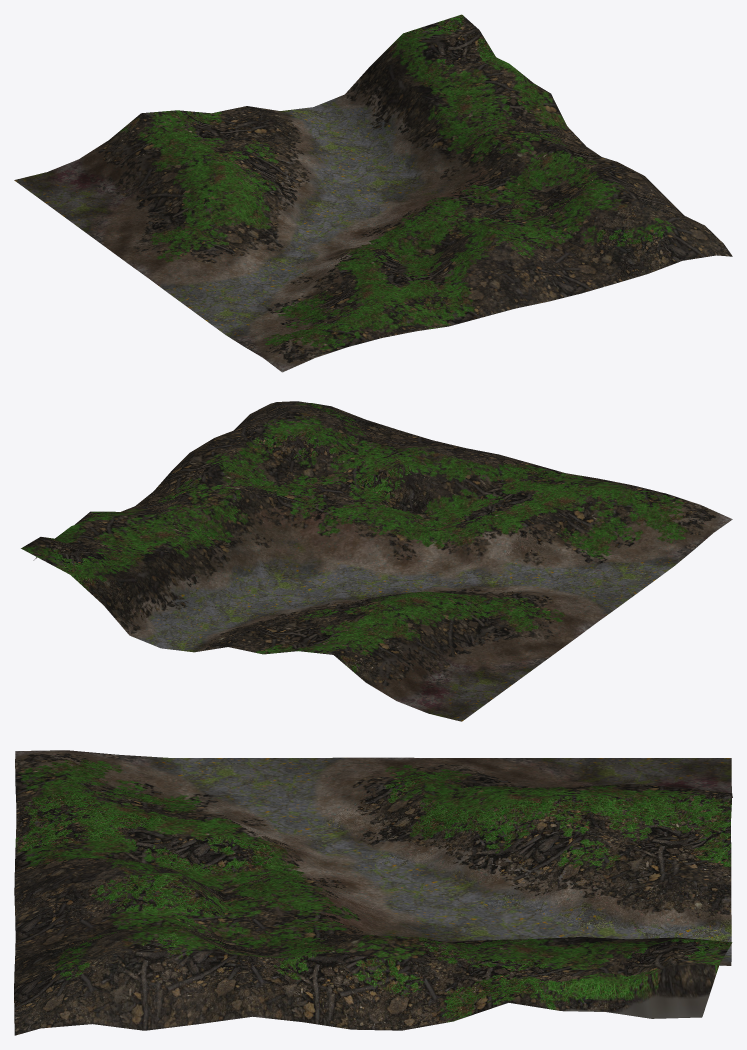
File: terrain4.glb
3 renders of one model, top to bottom at view 1: azimuth 30°, elevation 25°; view 2: azimuth 150°, elevation 25°; view 3: azimuth 270°, elevation 25°, orthographic. The views are drawn at different scales.
Parts seen in each view (by area): view 1: Terrain.004; view 2: Terrain.004; view 3: Terrain.004.
Boxes of the visible parts, x1,y1,x2,y2 form: Terrain.004: (14, 14, 732, 372); Terrain.004: (21, 401, 732, 721); Terrain.004: (14, 750, 732, 1035).
Size of the model in its own units: 43.33 by 5.5 by 44.23.
Materials: 1 (1 with a texture image).
